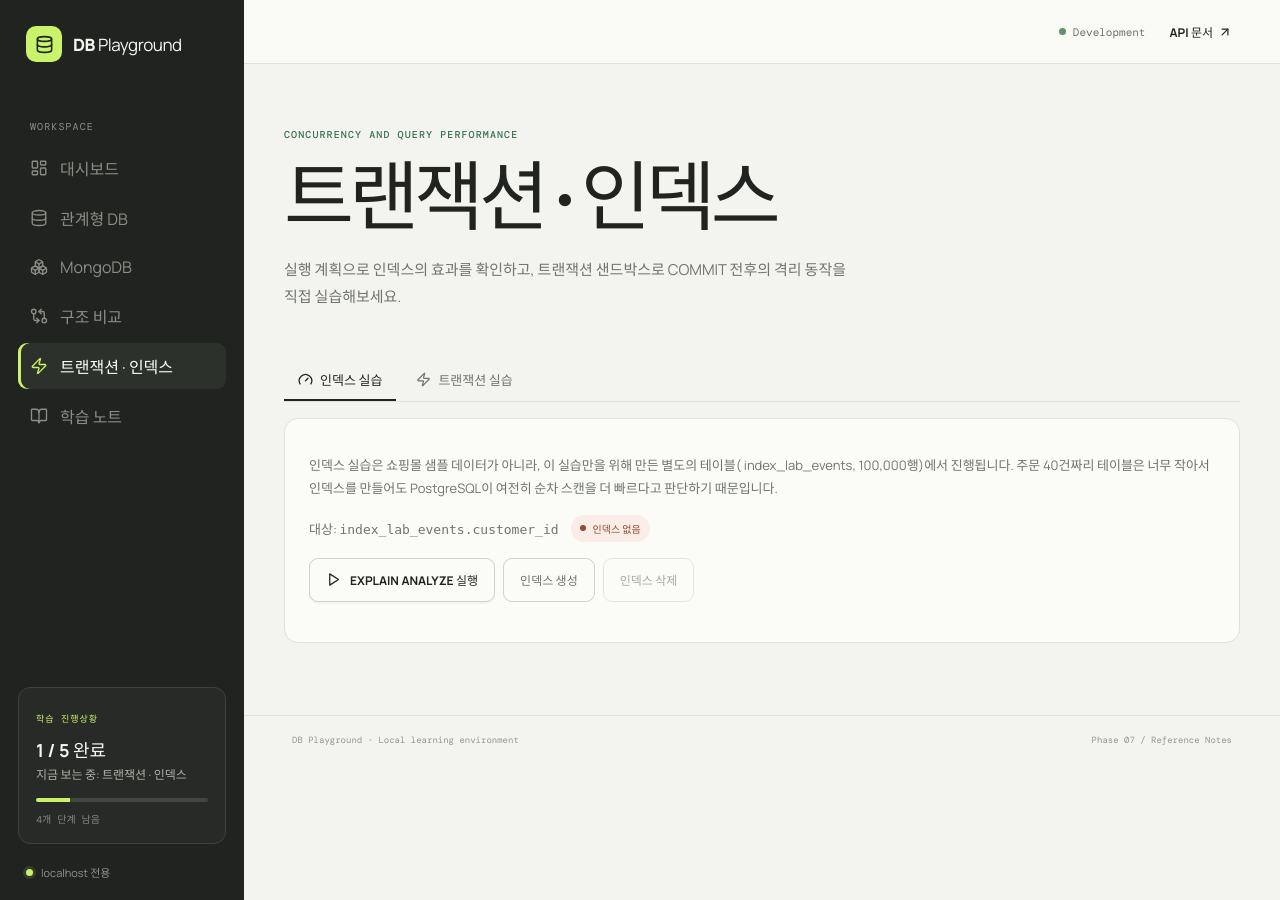
Scenario: PerformancePage › shows index status and runs an explain
This screenshot has width=1280, height=900.
Expected: the text "인덱스 없음" is shown, [571, 515, 650, 542]
What coordinates should you click on to do the following:
click the button "EXPLAIN ANALYZE 실행"
I would click on:
 (402, 580)
Its box is [309, 558, 495, 602].
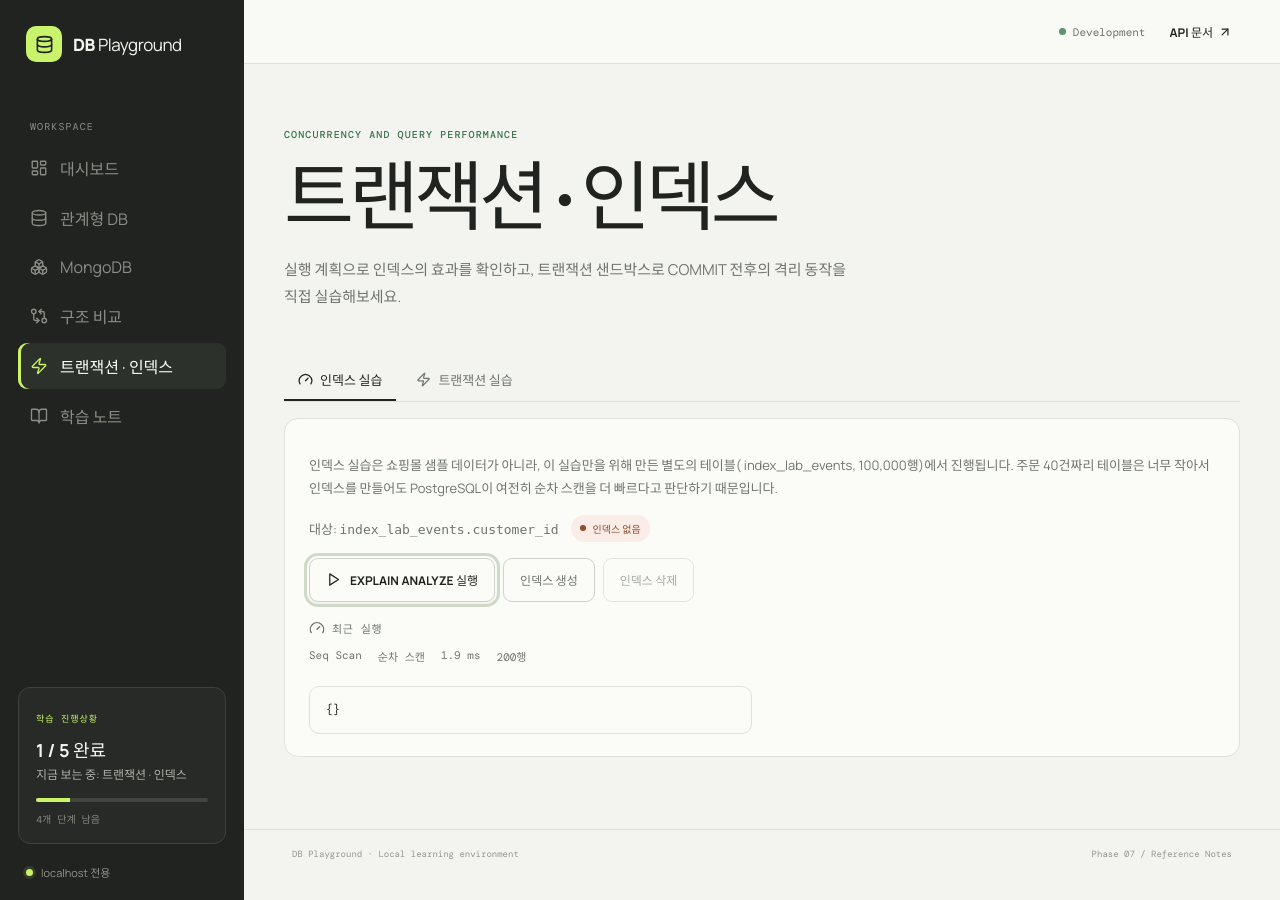
Expected: the text "Seq Scan" is shown, [309, 648, 362, 664]
Expected: the text "순차 스캔" is shown, [378, 648, 425, 664]
